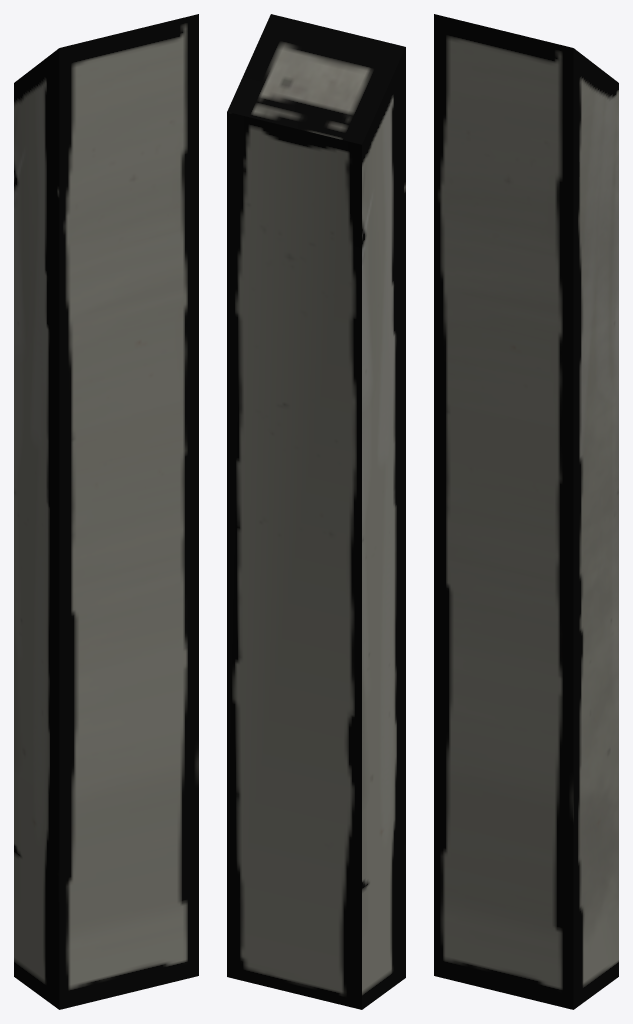
Rendered from tombstone_06_gib4.fbx.
3 views of the same model, side by side, from view 1: azimuth 30°, elevation 25°; view 2: azimuth 150°, elevation 25°; view 3: azimuth 330°, elevation 25° (orthographic). The views are drawn at different scales.
Visible parts, largest first — view 1: tombstone_06_gib4; view 2: tombstone_06_gib4; view 3: tombstone_06_gib4.
Boxes of the visible parts, left/top/right/bottom form: tombstone_06_gib4: left=14, top=14, right=198, bottom=1009; tombstone_06_gib4: left=227, top=14, right=405, bottom=1009; tombstone_06_gib4: left=434, top=14, right=618, bottom=1009.
Size of the model in its own units: 1 by 6.59 by 0.5623.
